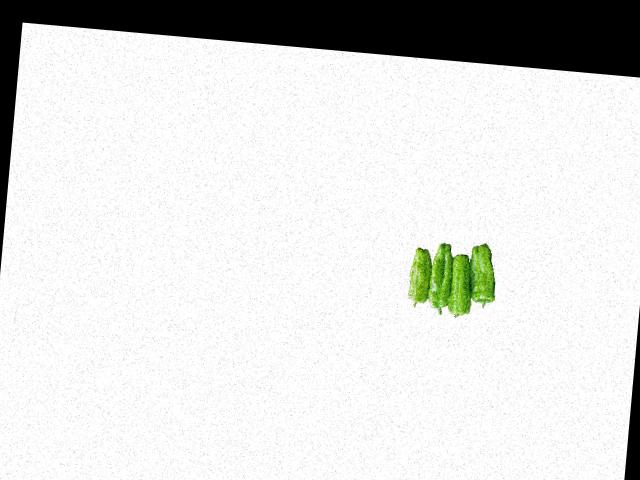bell_pepper: (466, 237, 500, 312)
